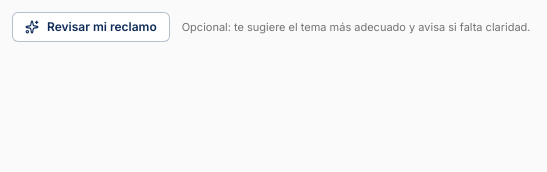
it: AiTicketTextReview › envía sólo título, descripción y tipo elegido
Click the button "Revisar mi reclamo" at (91,27), box [12,12,170,42]
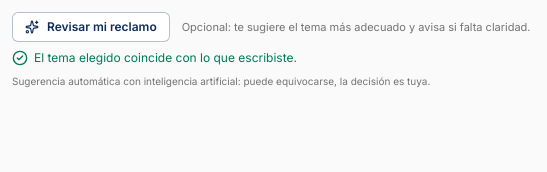
expect the text "El tema elegido coincide con lo que escribiste." is shown: met, box [12,50,297,66]
